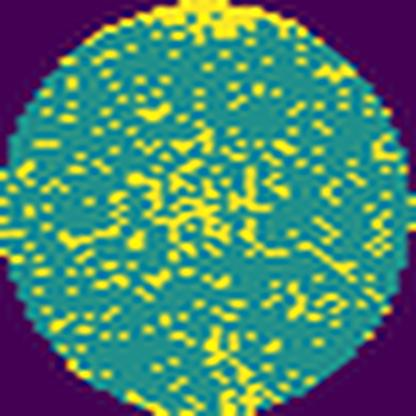Edge-Loc: (81, 0, 318, 43)
